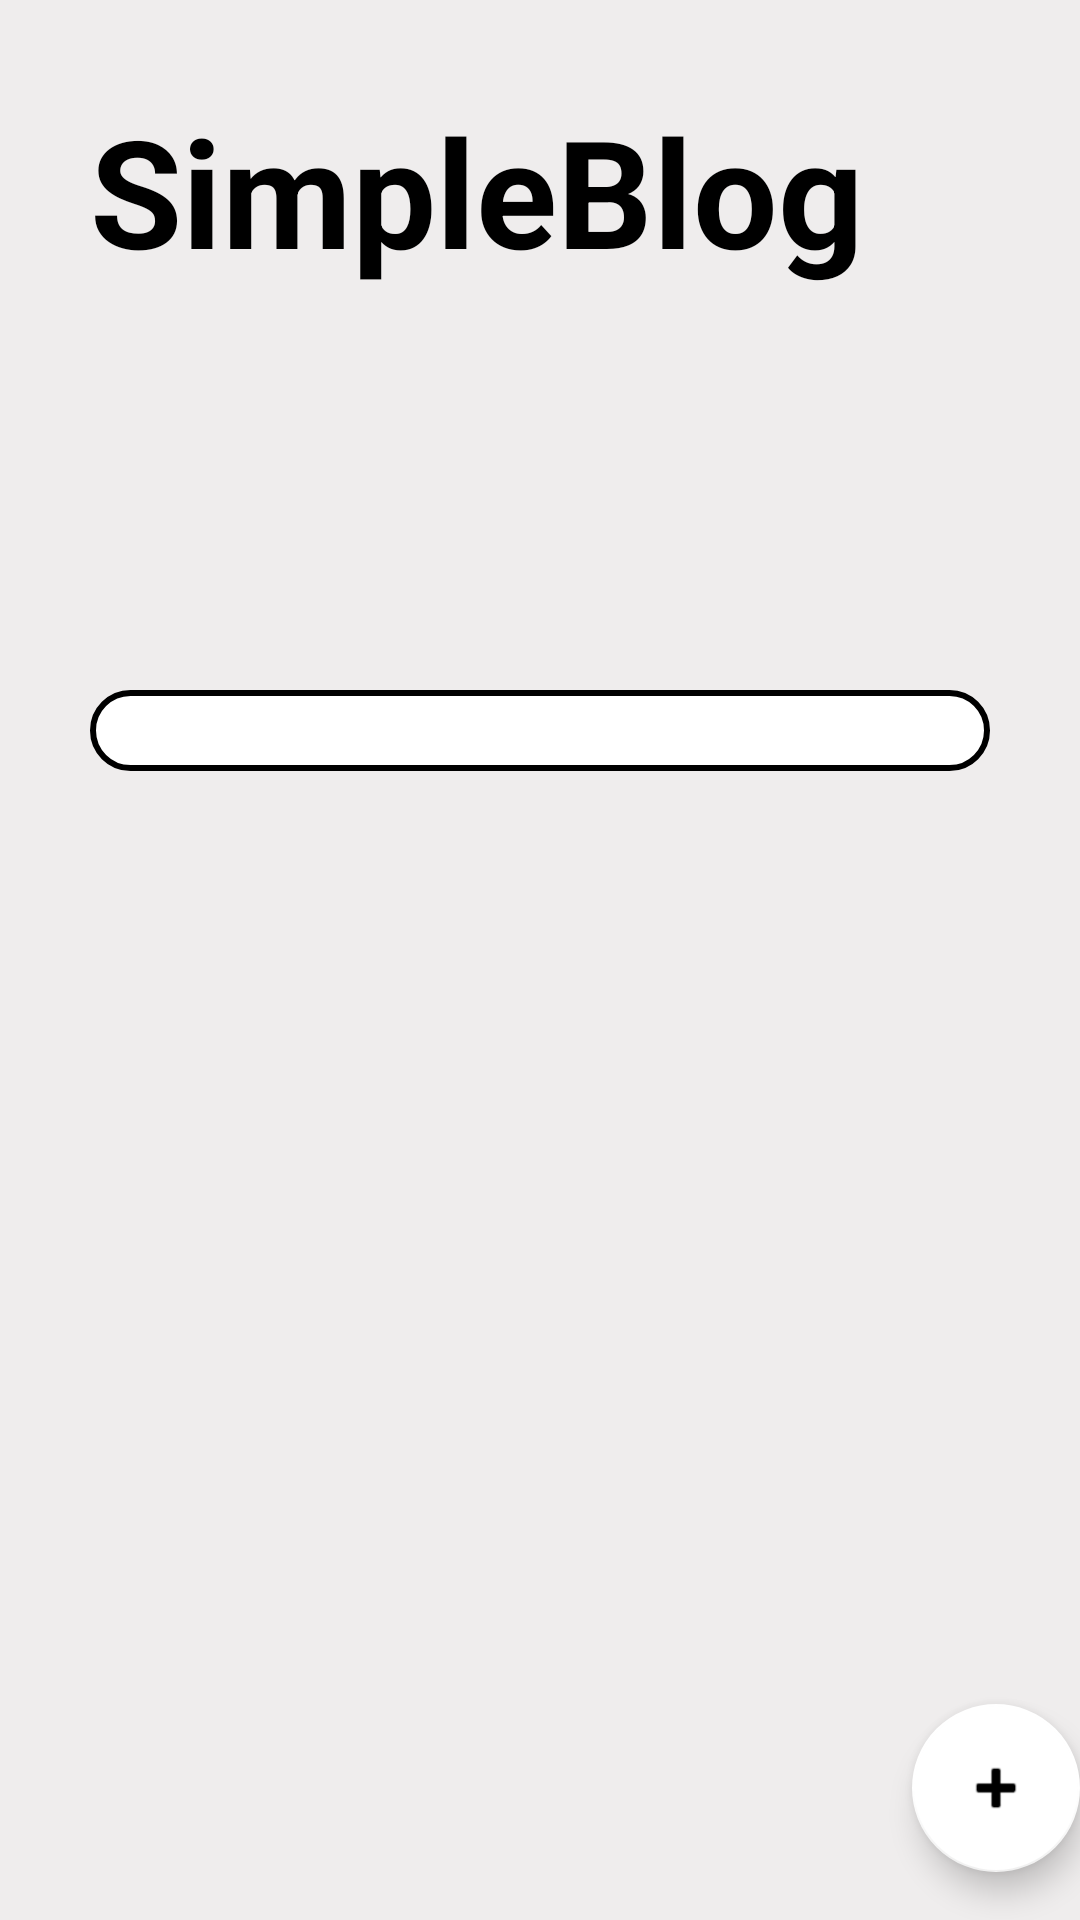

Icons on this 1080 x 1920 Android screen, each with the point to tap as (x,y):
add: (996,1788)
